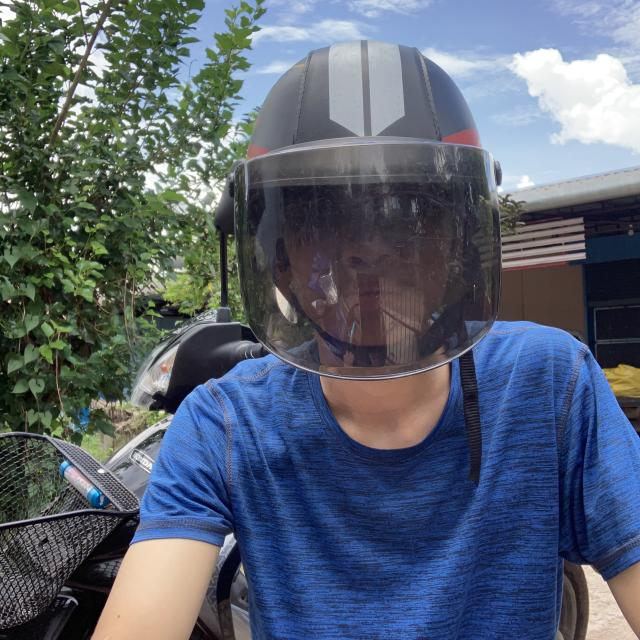helmet: (224, 32, 507, 391)
